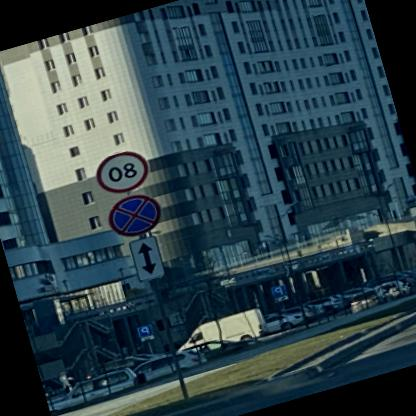speedlimit: (94, 144, 156, 197)
